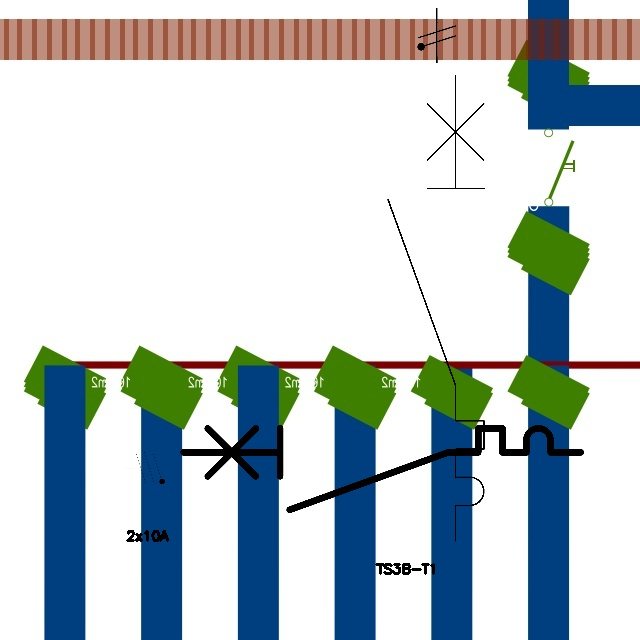interruptor_termomagnetico: (376, 63, 496, 553), (173, 418, 591, 520)
